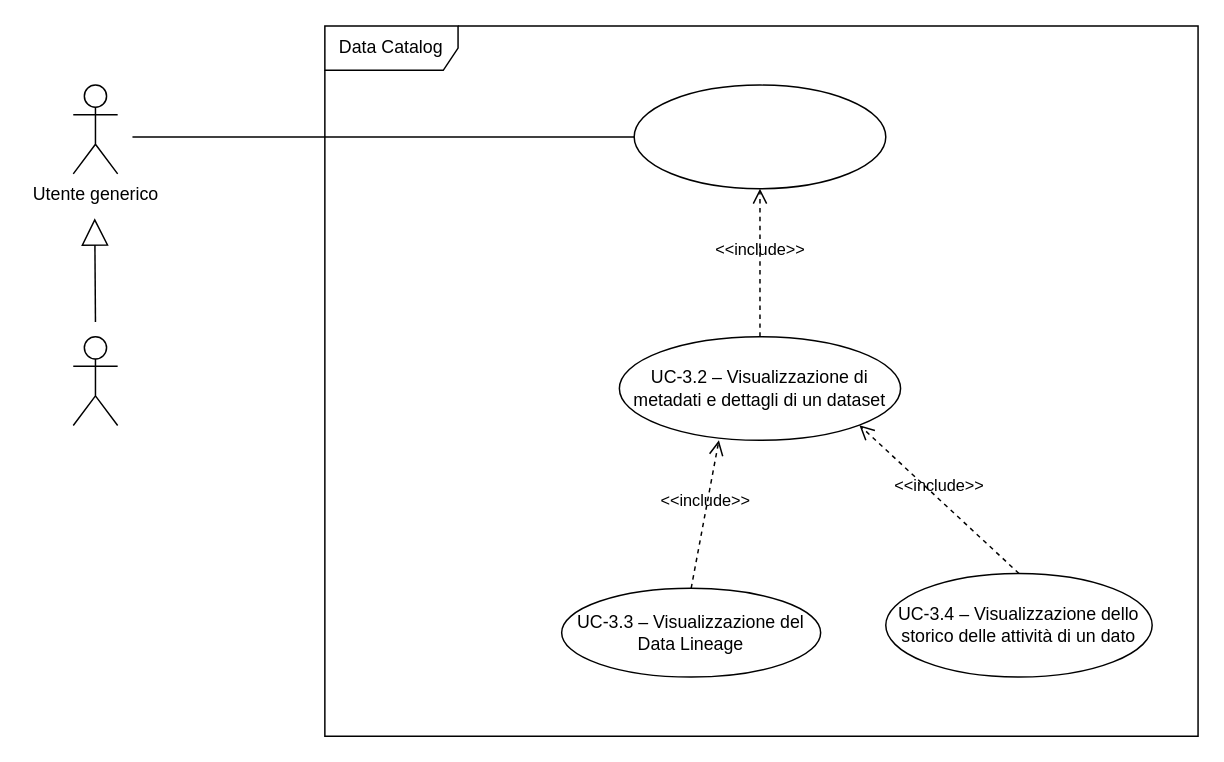
This 1224x762 diagram has some shape labels left out. The shapes that lost their labels are listed below. From the top down, each one's box as (x1, y1, x2, y2) in pixels, then its label:
(633, 84, 886, 189): UC-3.1 – Ricerca e visualizzazione di un dato
(72, 335, 118, 426): Analista o Sviluppatore di BI
